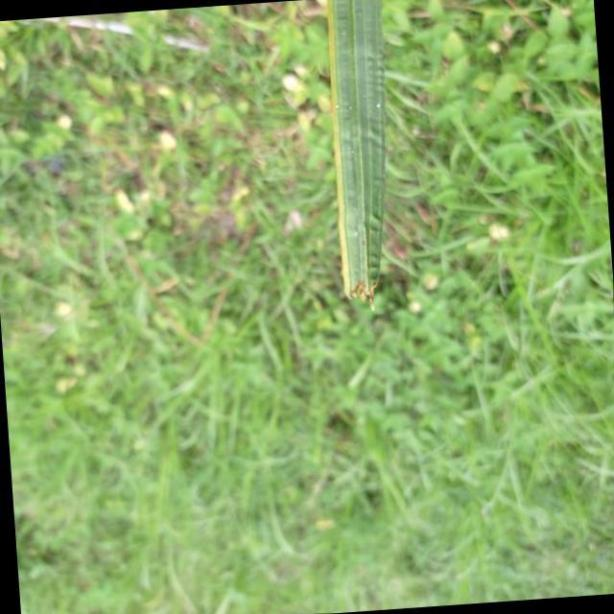Boron: (330, 2, 383, 322)
